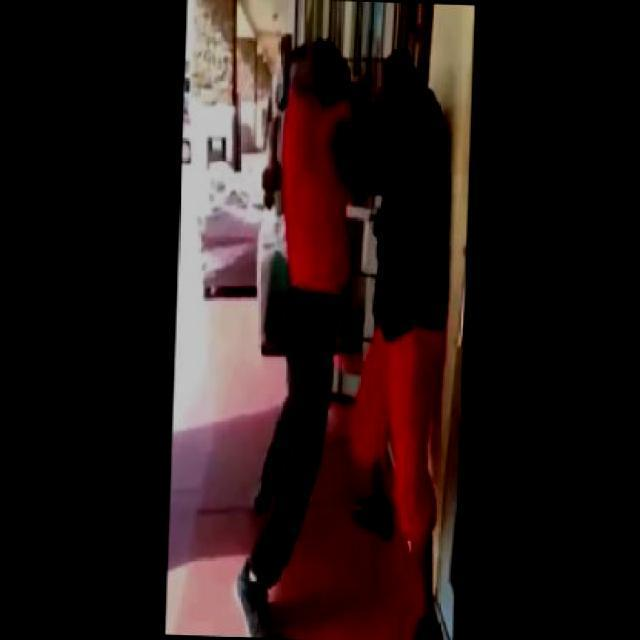fight: (268, 36, 457, 547)
